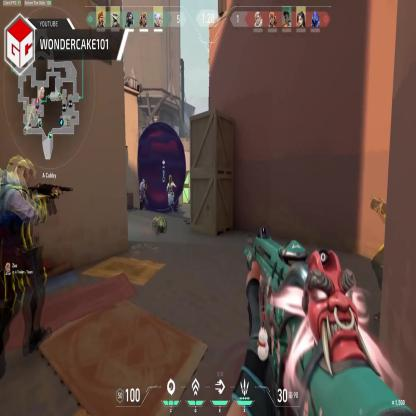enemy: (0, 154, 51, 376), (166, 176, 176, 215), (139, 176, 147, 210)
enemy_head: (10, 158, 29, 190), (169, 176, 172, 183), (142, 179, 145, 183)
